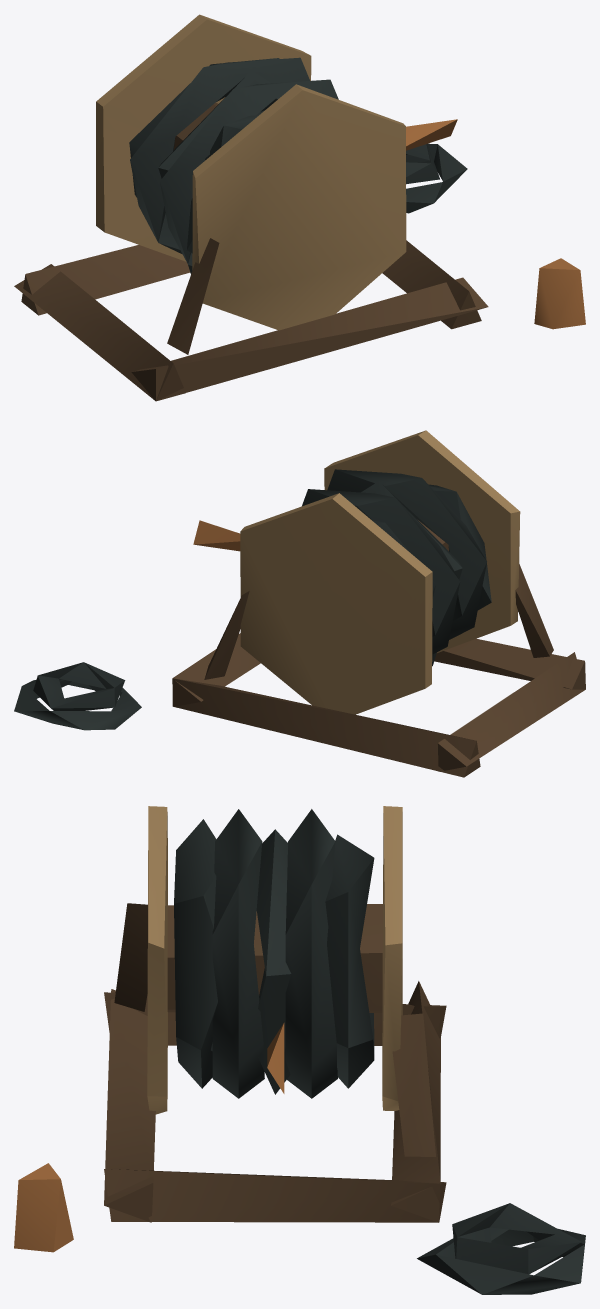
Rendered from hose_reel_a_lod2.glb.
3 renders of one model, top to bottom at view 1: azimuth 30°, elevation 25°; view 2: azimuth 150°, elevation 25°; view 3: azimuth 270°, elevation 25°, orthographic. The views are drawn at different scales.
Parts seen in each view (by area): view 1: Surface.001; view 2: Surface.001; view 3: Surface.001.
Boxes of the visible parts, x1=… form: Surface.001: x1=14, y1=14, x2=585, y2=401; Surface.001: x1=14, y1=430, x2=585, y2=777; Surface.001: x1=14, y1=806, x2=585, y2=1294.
Bounding box in the file's own units: 2.54 × 1.37 × 2.19.
